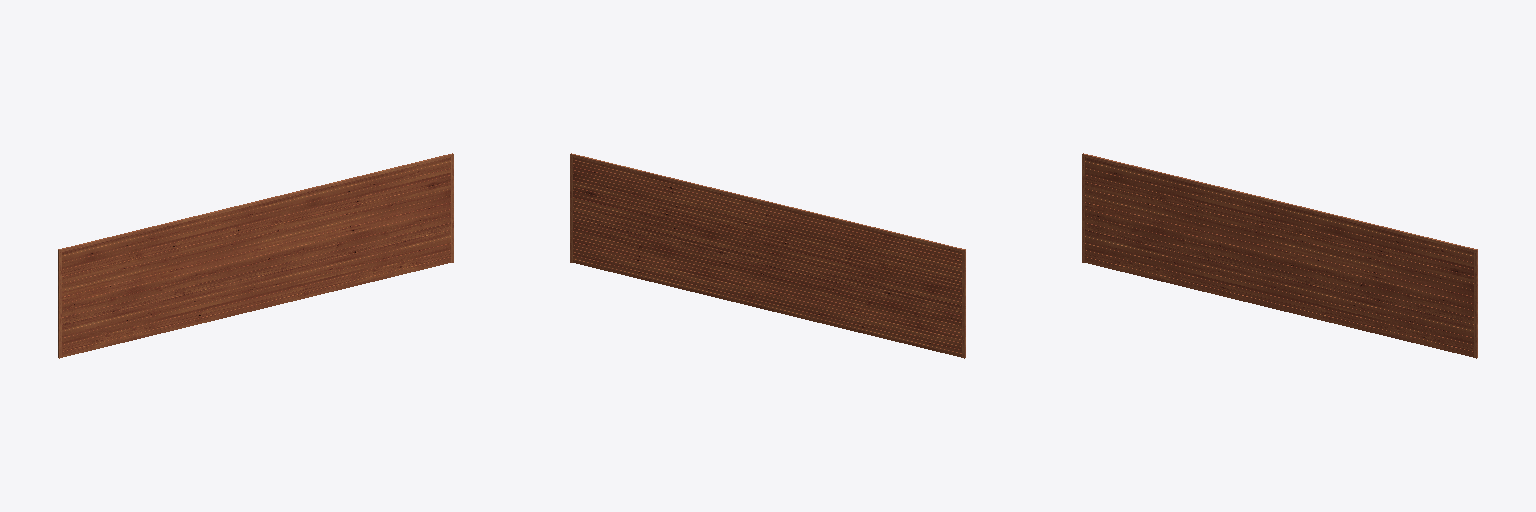
The picture shows the model from 3 angles: view 1: azimuth 30°, elevation 25°; view 2: azimuth 150°, elevation 25°; view 3: azimuth 330°, elevation 25°; orthographic projection.
Visible parts, largest first — view 1: wall_planks, trim_top; view 2: wall_planks, trim_top; view 3: wall_planks, trim_top.
Part boxes in pixels (x1,y1,x2,y2): wall_planks: (62, 157, 450, 357); trim_top: (58, 153, 453, 252); wall_planks: (573, 157, 961, 357); trim_top: (570, 153, 965, 252); wall_planks: (1085, 157, 1473, 357); trim_top: (1082, 153, 1477, 252).
Size of the model in its own units: 360 by 94.5 by 1.82.
Materials: 2 (2 with a texture image).